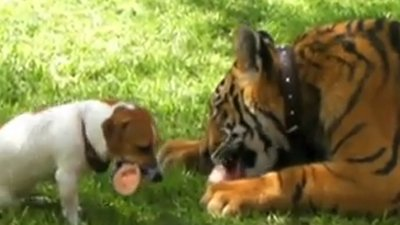dog: (1, 101, 160, 224)
tiger: (159, 17, 400, 215)
